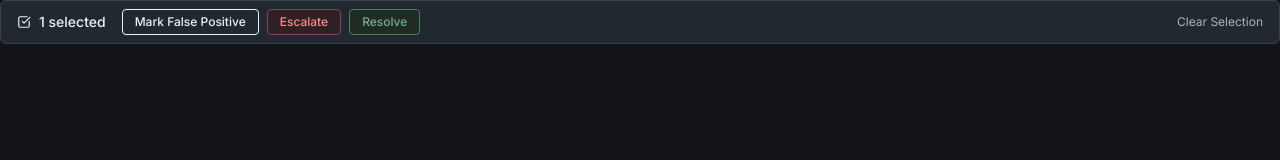
Test: BulkActionBar › clears the summary timeout on unmount
Click the button "Resolve" at (385, 22), box [349,9,420,35]
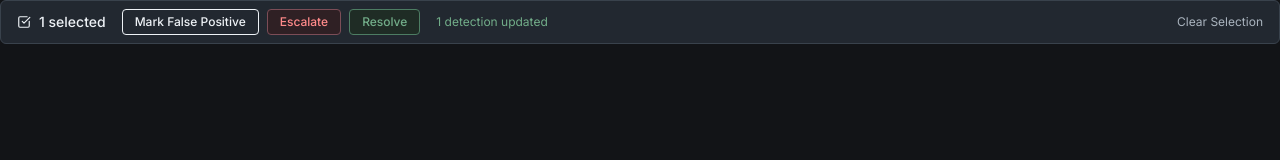
Expected: the text "1 detection updated" is shown, [436,14,548,30]
